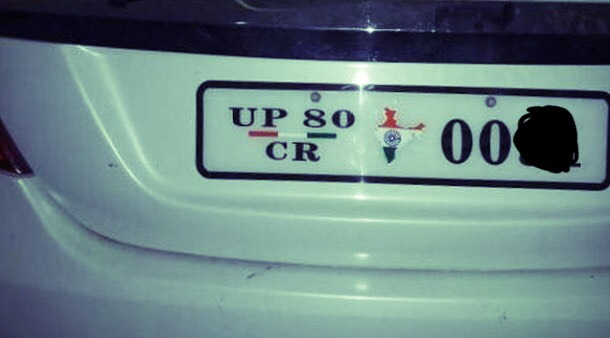number_plate: (191, 54, 607, 208)
